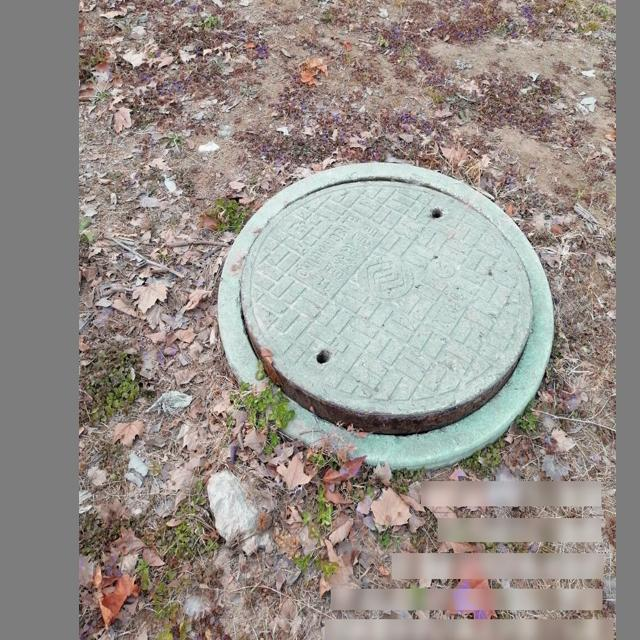uncovered: (216, 160, 552, 466)
